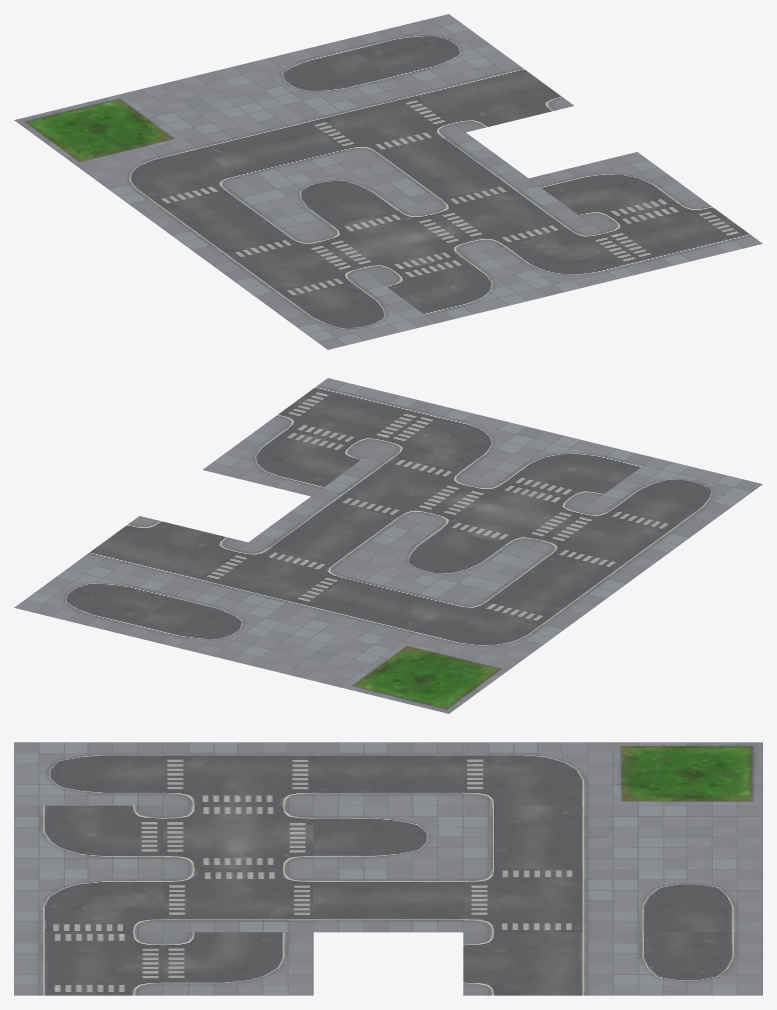
File: StreetLP.fbx
3 views of the same model, one above another, from view 1: azimuth 30°, elevation 25°; view 2: azimuth 150°, elevation 25°; view 3: azimuth 270°, elevation 25° (orthographic). The views are drawn at different scales.
Visible parts, largest first — view 1: Four_Wais, T_wais_S, End_S, End_E, Center, Corner_W_to_S, Corner_N_to_E, polySurface7, Line_S_to_N_B, T_wais, T_wais_E, Corner_S_to_E (+7 smaller); view 2: Line_W_to_E, T_wais_W, Center_Grass, T_wais_N, End_W, Line_S_to_N_B, Corner_W_to_N, T_wais_E, Corner_W_to_S, T_wais, Corner_S_to_E, polySurface7 (+7 smaller); view 3: Corner_W_to_S, T_wais, T_wais_E, Corner_S_to_E, Line_S_to_N, Line_W_to_E, Four_Wais, T_wais_W, T_wais_S, Line_S_to_N_B, polySurface7, End_W (+7 smaller).
Boxes of the visible parts, x1,y1,x2,y2 form: Four_Wais: [311, 205, 482, 277]; T_wais_S: [294, 86, 465, 158]; End_S: [265, 277, 436, 349]; End_E: [340, 14, 511, 86]; Center: [123, 67, 293, 139]; Corner_W_to_S: [529, 152, 699, 224]; Corner_N_to_E: [483, 224, 653, 296]; polySurface7: [248, 159, 419, 231]; Line_S_to_N_B: [357, 132, 528, 204]; T_wais: [403, 60, 573, 132]; T_wais_E: [203, 231, 373, 303]; Corner_S_to_E: [77, 139, 247, 211]; Line_W_to_E: [294, 569, 465, 641]; T_wais_W: [311, 450, 482, 522]; Center_Grass: [340, 641, 511, 713]; T_wais_N: [265, 378, 436, 450]; End_W: [123, 588, 293, 660]; Line_S_to_N_B: [248, 496, 419, 568]; Corner_W_to_N: [483, 431, 653, 503]; T_wais_E: [529, 503, 699, 575]; Corner_W_to_S: [203, 424, 373, 496]; T_wais: [77, 516, 247, 588]; Corner_S_to_E: [403, 595, 573, 667]; polySurface7: [357, 523, 528, 595]; Corner_W_to_S: [163, 932, 313, 995]; T_wais: [463, 932, 613, 995]; T_wais_E: [163, 742, 313, 805]; Corner_S_to_E: [463, 742, 613, 805]; Line_S_to_N: [313, 742, 463, 805]; Line_W_to_E: [463, 805, 613, 868]; Four_Wais: [163, 805, 313, 868]; T_wais_W: [163, 869, 313, 932]; T_wais_S: [463, 869, 613, 932]; Line_S_to_N_B: [313, 869, 463, 932]; polySurface7: [313, 805, 463, 868]; End_W: [613, 869, 762, 932].
Bounding box in the file's own units: 35.88 × 6.67e-07 × 44.85.
